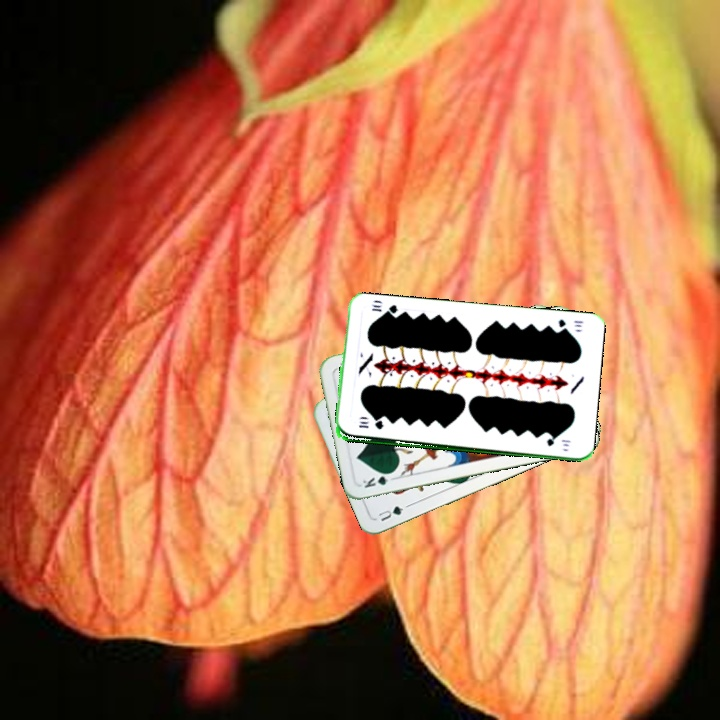G10: (554, 315, 585, 334), (355, 417, 386, 432)
GK: (358, 468, 398, 491)
GU: (374, 501, 412, 524)
